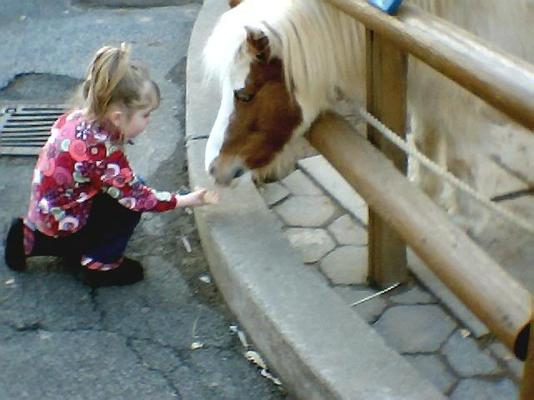person: (6, 38, 215, 288)
